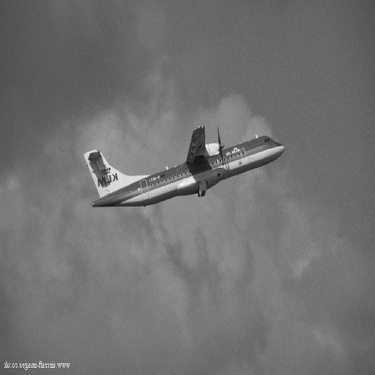airplane: (51, 122, 303, 221)
